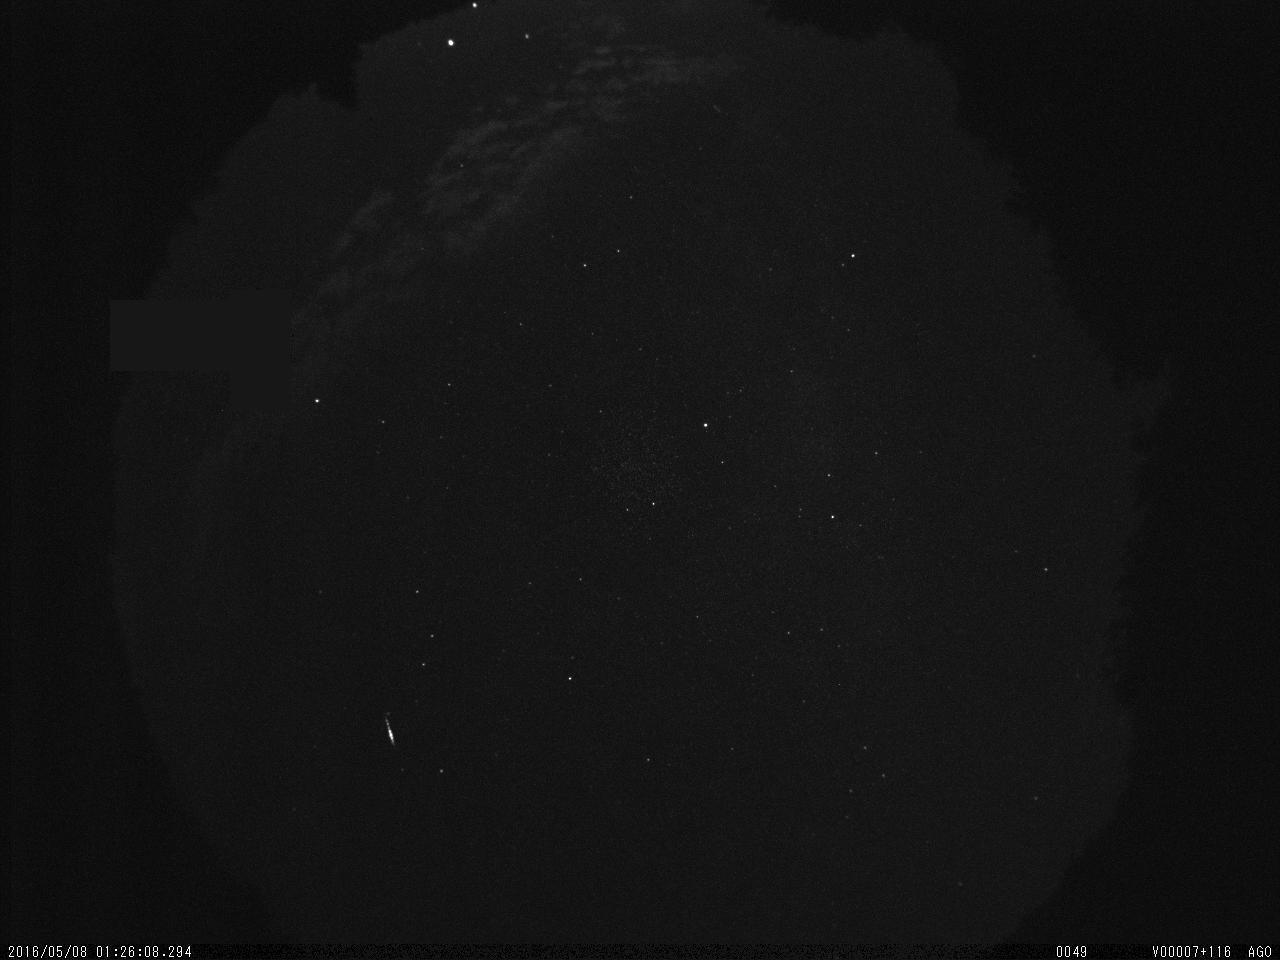meteor: (375, 706, 401, 744)
